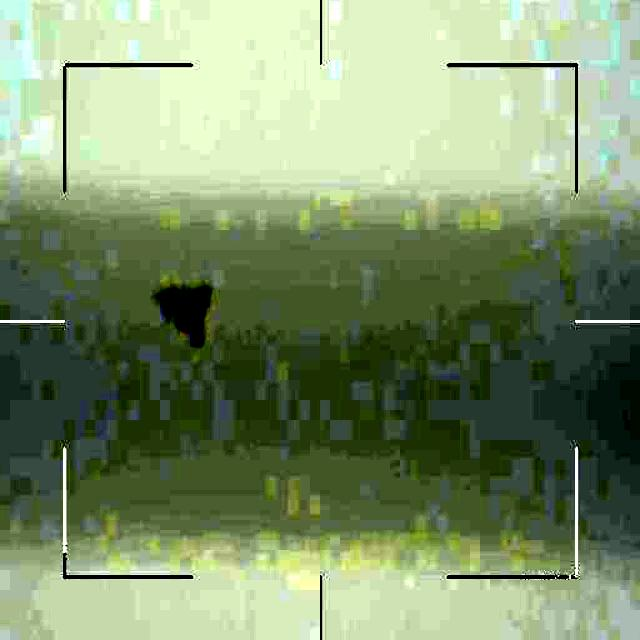bird: (150, 272, 220, 352)
